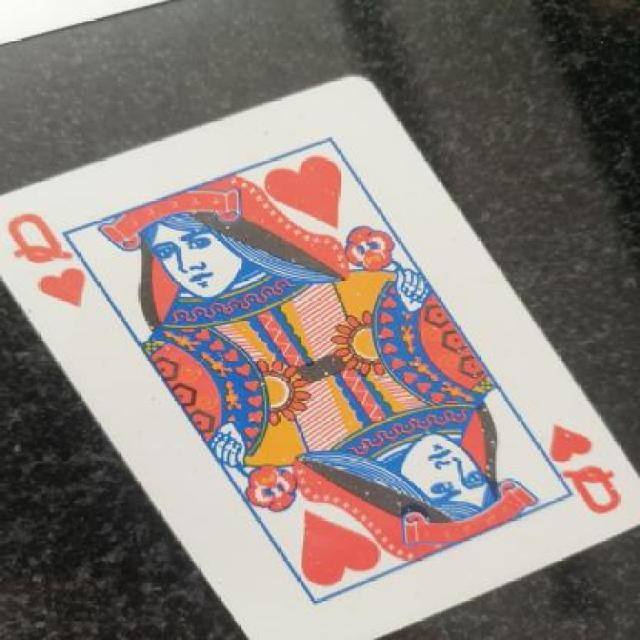QH: (529, 410, 634, 539), (1, 198, 93, 324)
